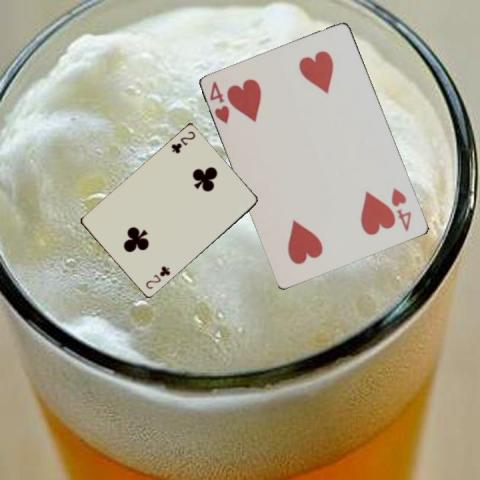2c: (143, 263, 171, 291), (168, 128, 197, 155)
4h: (389, 185, 413, 233), (207, 79, 231, 125)
